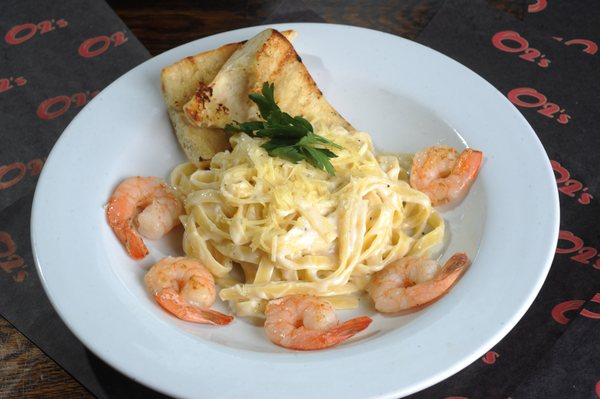curry: (2, 0, 595, 398)
